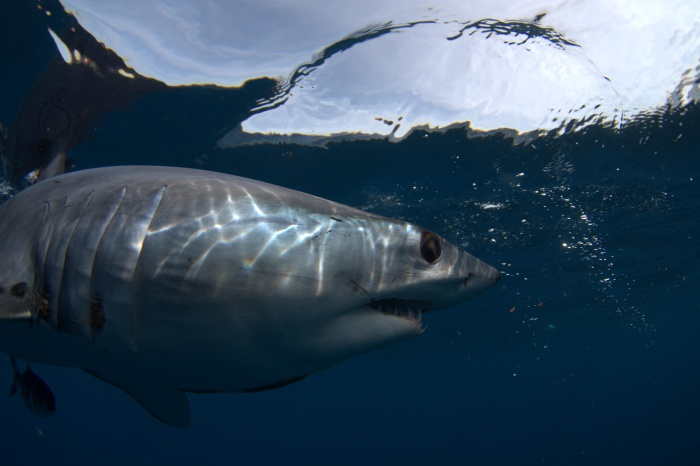Mako: (1, 156, 521, 443)
